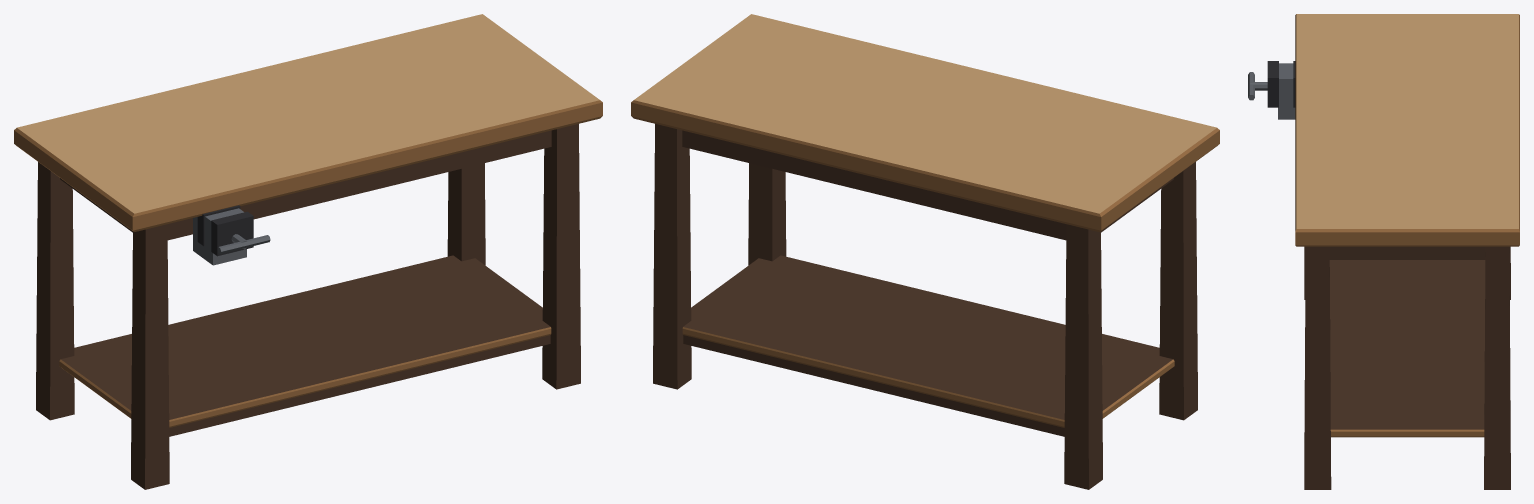
The model's file is FN_Desk_Workbench.glb.
The picture shows the model from 3 angles, left to right: view 1: azimuth 30°, elevation 25°; view 2: azimuth 150°, elevation 25°; view 3: azimuth 270°, elevation 25°; orthographic projection. The views are drawn at different scales.
Parts seen in each view (by area): view 1: FN_Desk_Workbench; view 2: FN_Desk_Workbench; view 3: FN_Desk_Workbench.
Part boxes in pixels (x1=…): FN_Desk_Workbench: x1=14, y1=14, x2=602, y2=489; FN_Desk_Workbench: x1=631, y1=14, x2=1219, y2=489; FN_Desk_Workbench: x1=1248, y1=14, x2=1519, y2=489.
Size of the model in its own units: 1.6 by 0.92 by 0.847.
Materials: 1 (1 with a texture image).
